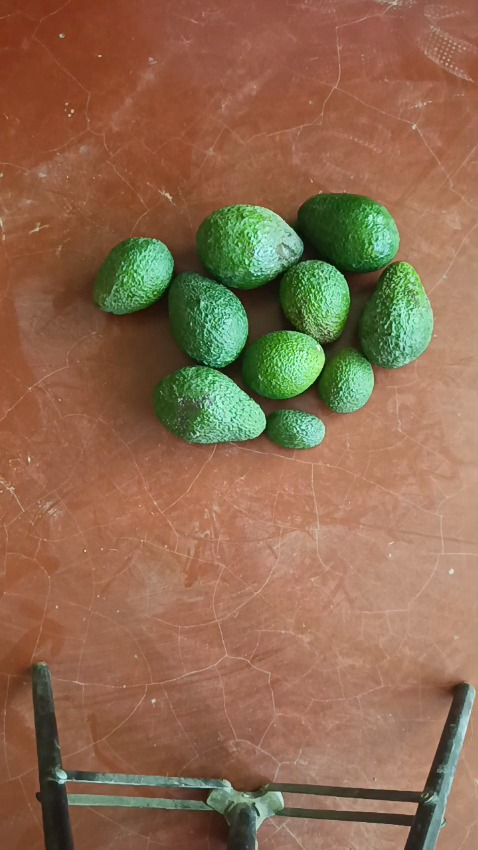Primera: (196, 205, 303, 290), (152, 365, 265, 443), (295, 193, 399, 273), (360, 262, 435, 368), (167, 271, 249, 367)
Segunda: (92, 237, 174, 315), (279, 260, 351, 344), (240, 331, 324, 400)
Tercera: (317, 347, 374, 413), (264, 409, 324, 450)
